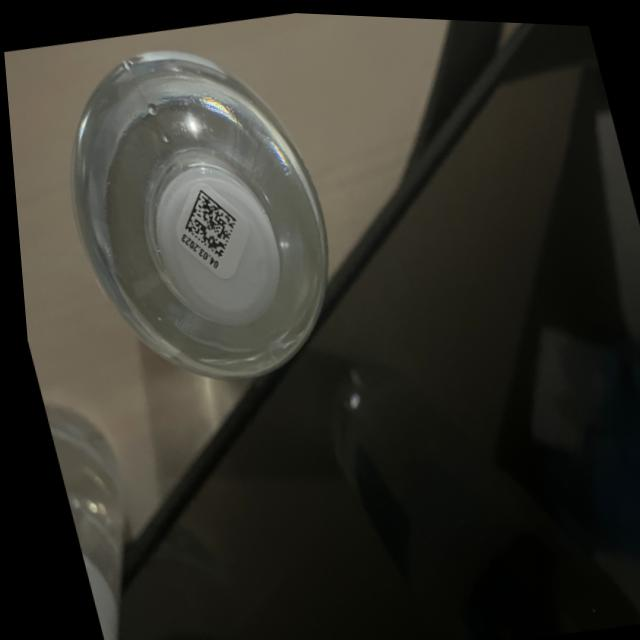datamatrix: (172, 183, 241, 261)
